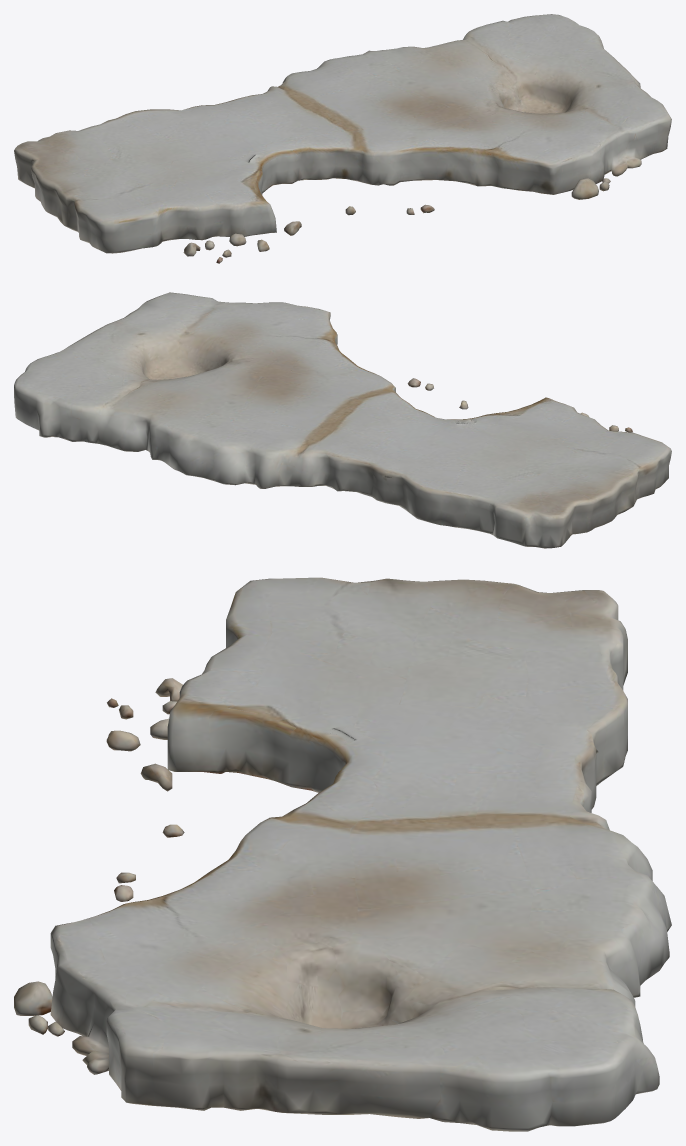
Rendered from debris_concrete_3.glb.
The picture shows the model from 3 angles, top to bottom: view 1: azimuth 30°, elevation 25°; view 2: azimuth 150°, elevation 25°; view 3: azimuth 270°, elevation 25°; orthographic projection. The views are drawn at different scales.
Bounding box in the file's own units: 1.91 × 0.1213 × 1.06.
Materials: 1 (1 with a texture image).
